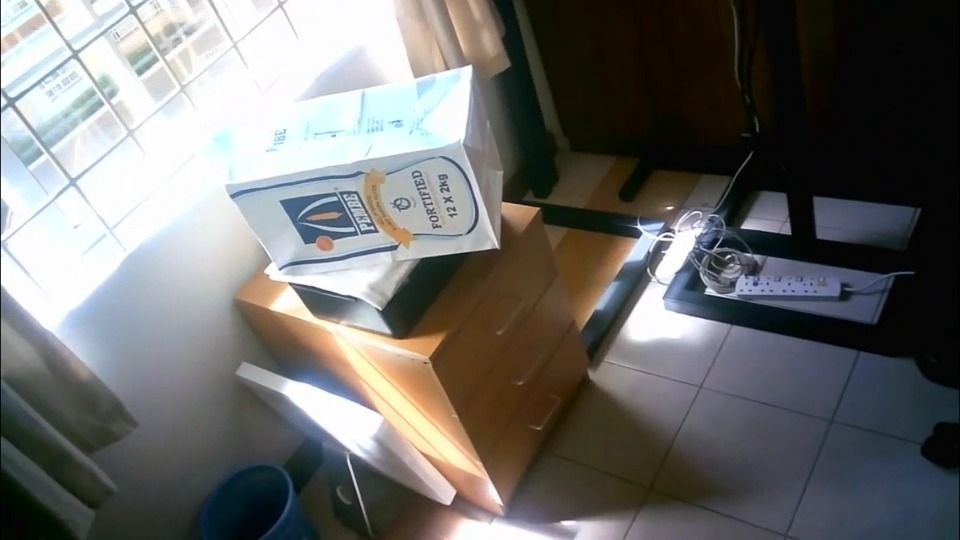wheat_flour_blue_label: (226, 65, 499, 271)
